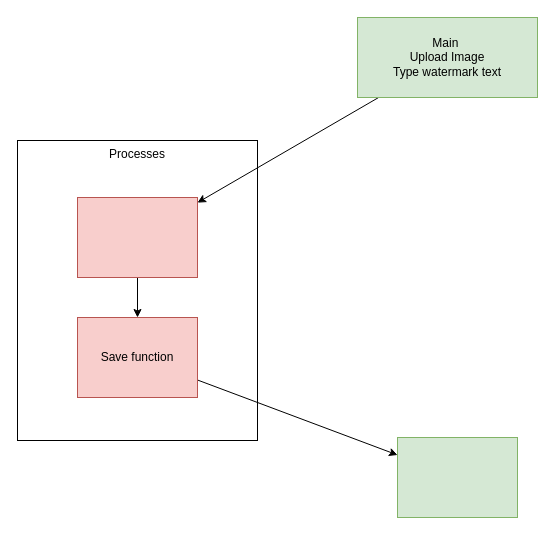
This 555x535 diagram has some shape labels left out. Each missing label, with the centre of its shape:
Add text to image: point 137,237
Save image Directory: point 457,477
